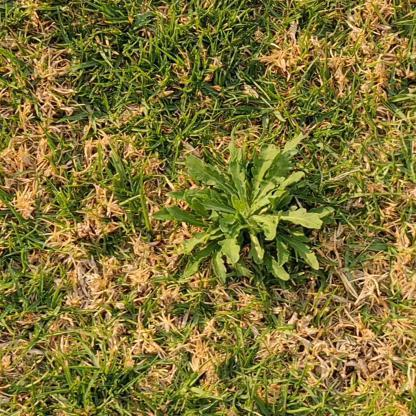Weeds: (149, 132, 336, 287)
